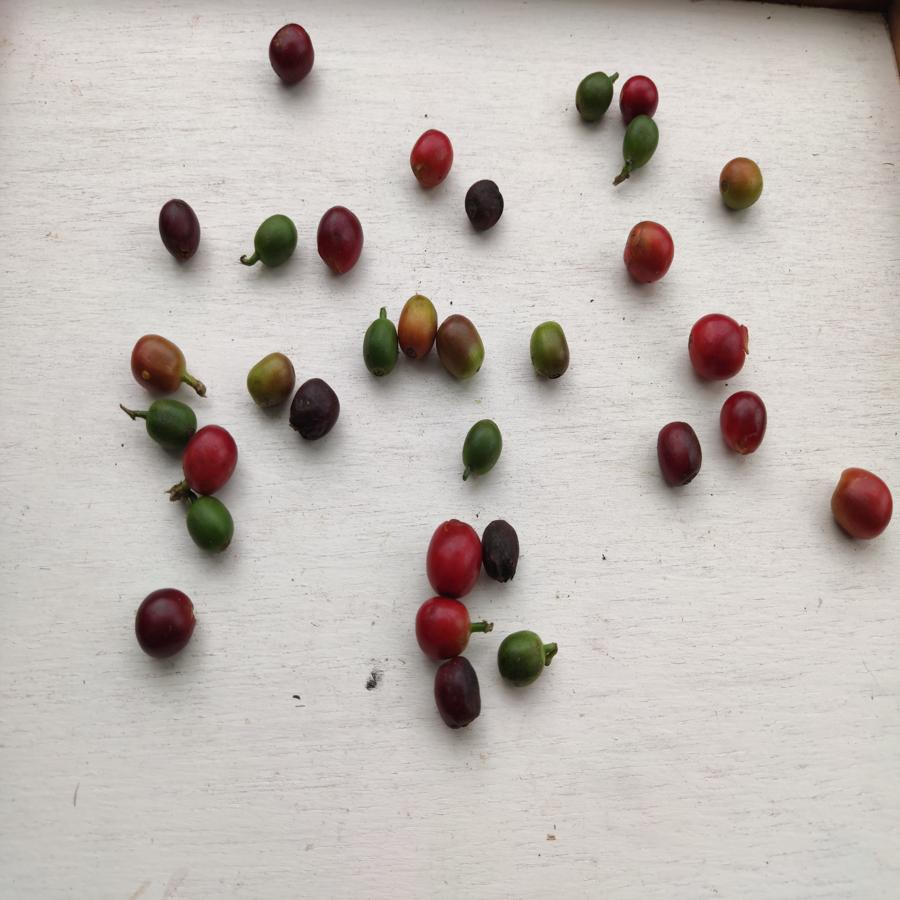Inmaduro: (182, 495, 236, 556), (247, 208, 299, 271), (495, 630, 547, 693), (360, 314, 398, 382), (459, 420, 502, 477), (570, 70, 614, 124), (146, 400, 195, 446), (621, 117, 659, 171)
Maduro: (829, 465, 894, 547), (686, 313, 752, 385), (424, 521, 481, 596), (184, 424, 242, 497), (619, 219, 679, 287), (413, 596, 473, 658), (721, 389, 768, 461), (409, 128, 453, 190), (619, 75, 660, 116)
Pinton: (435, 308, 486, 381), (129, 333, 187, 395), (527, 320, 575, 385), (243, 351, 294, 410), (397, 292, 434, 362), (718, 155, 764, 211)
Sobremaduro: (132, 589, 198, 662), (646, 420, 703, 491), (263, 23, 319, 90), (314, 206, 365, 277), (289, 378, 341, 442), (158, 195, 201, 271), (435, 657, 481, 728), (481, 515, 521, 589), (463, 179, 507, 234)
